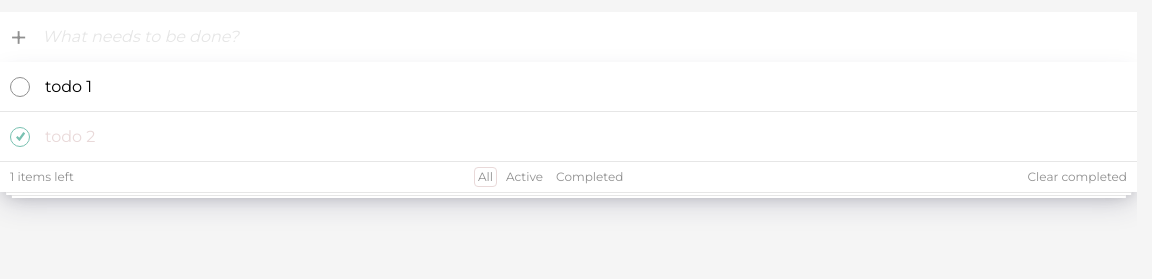
Test: Todos Component › Adds a new todo
The image size is (1152, 279).
Type "Coding" into the field with placeholder "What needs to be done?".
click(585, 37); type("Coding")  # box [42,25,1127,49]
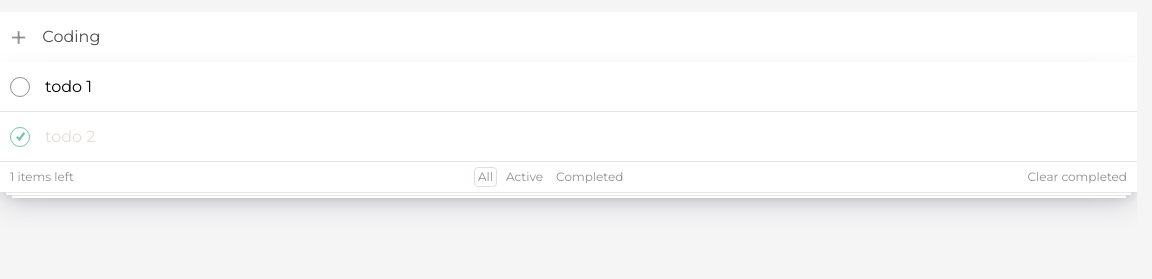
Click the button "+".
click(19, 37)  # box [10,14,27,60]
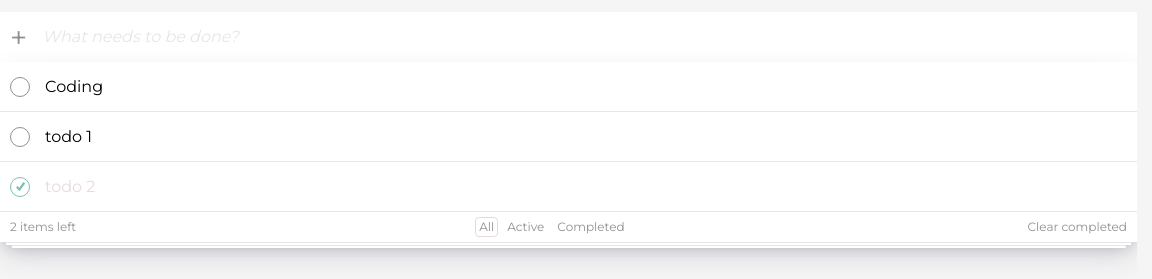
Now the list item "Coding" is shown, box [0,62,1137,112]
